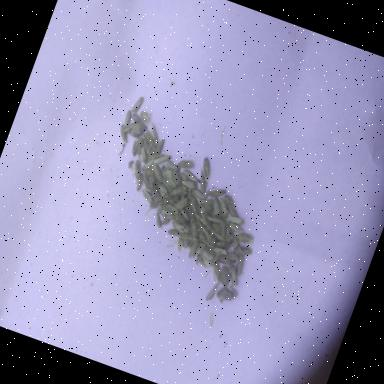pbw: (214, 195, 234, 220), (208, 261, 228, 284), (186, 236, 202, 264), (216, 264, 234, 288), (197, 157, 215, 181), (225, 265, 243, 288), (115, 124, 133, 146), (197, 248, 216, 268), (185, 218, 203, 239), (232, 243, 254, 260), (208, 196, 225, 218), (234, 230, 256, 247), (170, 182, 189, 201), (220, 223, 236, 245), (204, 282, 220, 304), (129, 159, 145, 181), (146, 137, 160, 162), (232, 255, 247, 278), (150, 164, 168, 183), (172, 194, 190, 213), (226, 230, 244, 249), (208, 185, 227, 203), (153, 151, 172, 169), (145, 124, 162, 144), (130, 94, 145, 116), (158, 177, 176, 195), (223, 202, 242, 219), (176, 156, 196, 172), (140, 129, 158, 146), (140, 156, 156, 175), (217, 220, 232, 240), (226, 222, 246, 237), (146, 174, 160, 195), (186, 206, 204, 222), (138, 188, 156, 204), (193, 254, 211, 270), (138, 172, 154, 190), (180, 169, 200, 183), (187, 197, 203, 214), (194, 231, 212, 246), (151, 210, 166, 228), (128, 138, 142, 157), (178, 231, 198, 244), (226, 214, 246, 227), (160, 165, 176, 181), (168, 170, 184, 186), (176, 206, 192, 222), (162, 200, 180, 214), (164, 160, 182, 174), (154, 137, 166, 158), (197, 204, 215, 218), (215, 290, 233, 304), (205, 213, 224, 226), (133, 172, 145, 192), (134, 138, 146, 158), (122, 109, 134, 129), (164, 175, 180, 190), (222, 194, 238, 209), (169, 220, 186, 234), (198, 195, 216, 208), (149, 194, 162, 212), (220, 286, 236, 300), (191, 188, 207, 202), (197, 241, 214, 254), (197, 217, 214, 230), (180, 178, 198, 190), (209, 252, 221, 270), (179, 220, 193, 235), (139, 138, 153, 153), (217, 254, 233, 267), (160, 205, 176, 218), (208, 222, 225, 234), (143, 184, 160, 196), (208, 228, 225, 240), (154, 184, 168, 198), (130, 113, 144, 127), (212, 246, 228, 258), (127, 128, 143, 140), (138, 111, 152, 124), (166, 226, 181, 238), (201, 201, 214, 214), (172, 214, 186, 226), (134, 120, 148, 132), (172, 192, 186, 204), (225, 251, 240, 262), (175, 171, 189, 182), (227, 286, 239, 298), (157, 208, 169, 220), (199, 226, 212, 237), (184, 189, 194, 203), (176, 236, 187, 248), (200, 212, 212, 222), (227, 258, 235, 272), (164, 213, 176, 222), (203, 189, 211, 202), (161, 218, 170, 228), (226, 240, 233, 252), (216, 240, 226, 248)
